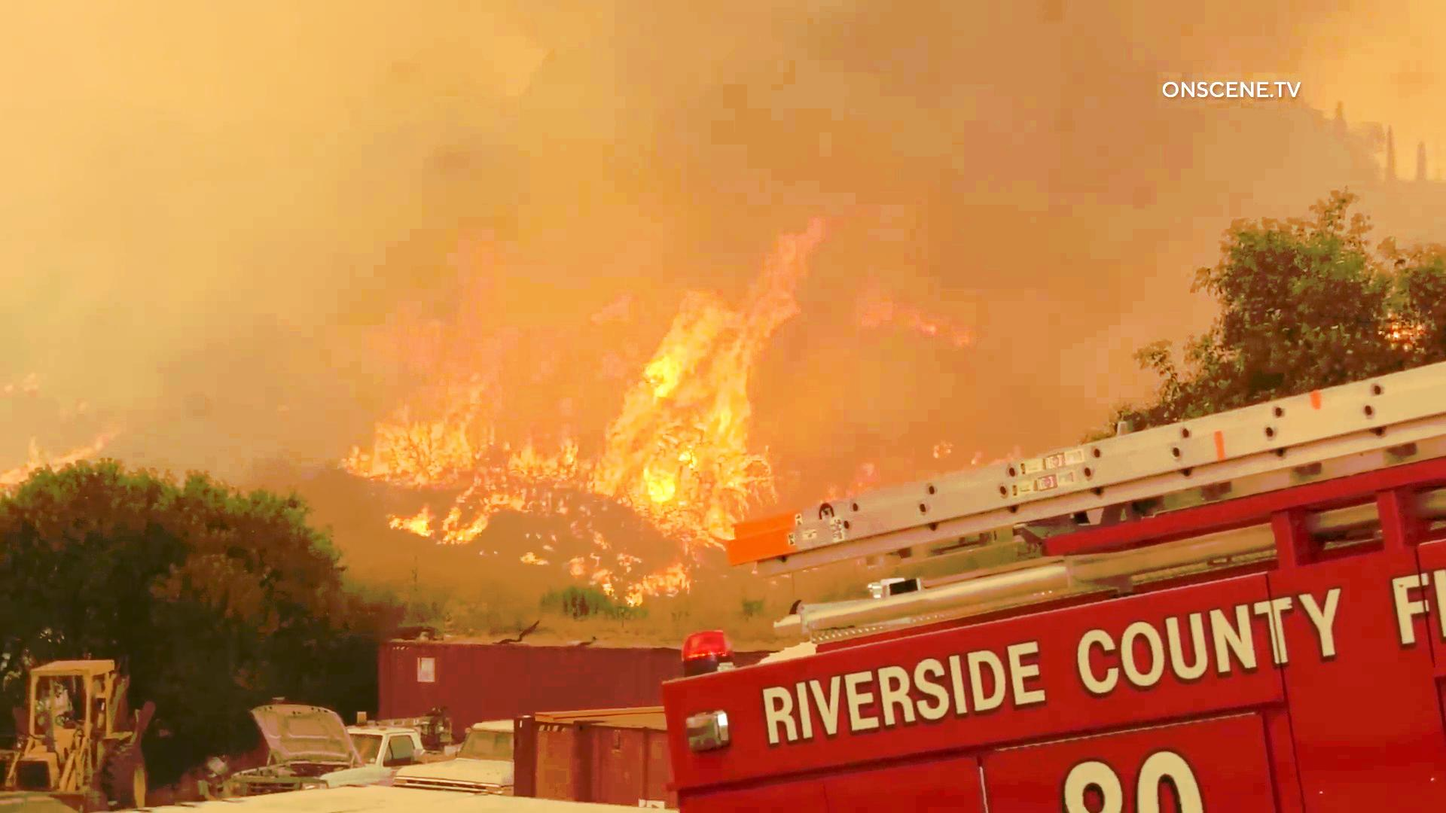fire: (371, 207, 796, 596)
